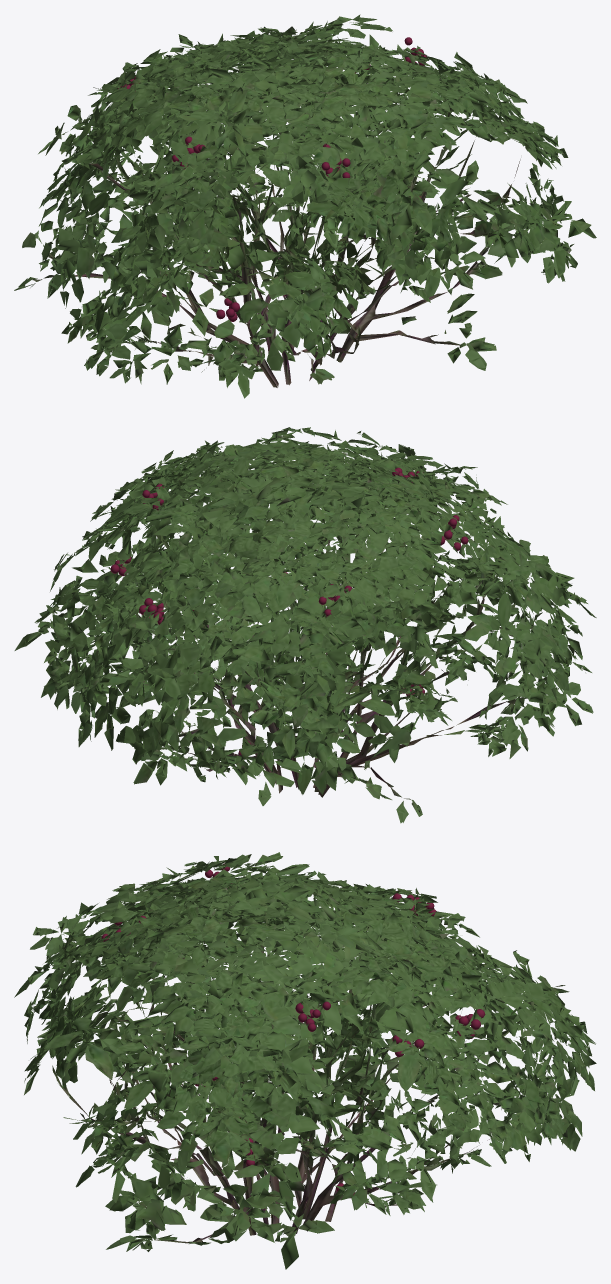
Rendered from bush-berries-b.glb.
The picture shows the model from 3 angles, top to bottom: view 1: azimuth 30°, elevation 25°; view 2: azimuth 150°, elevation 25°; view 3: azimuth 270°, elevation 25°; orthographic projection. The views are drawn at different scales.
Parts seen in each view (by area): view 1: bush_berries_b; view 2: bush_berries_b; view 3: bush_berries_b.
Boxes of the visible parts, x1,y1,x2,y2 form: bush_berries_b: (14, 14, 596, 398); bush_berries_b: (14, 427, 596, 823); bush_berries_b: (14, 852, 596, 1269).
Bounding box in the file's own units: 2.93 × 1.8 × 2.75.
Materials: 2 (1 with a texture image).
